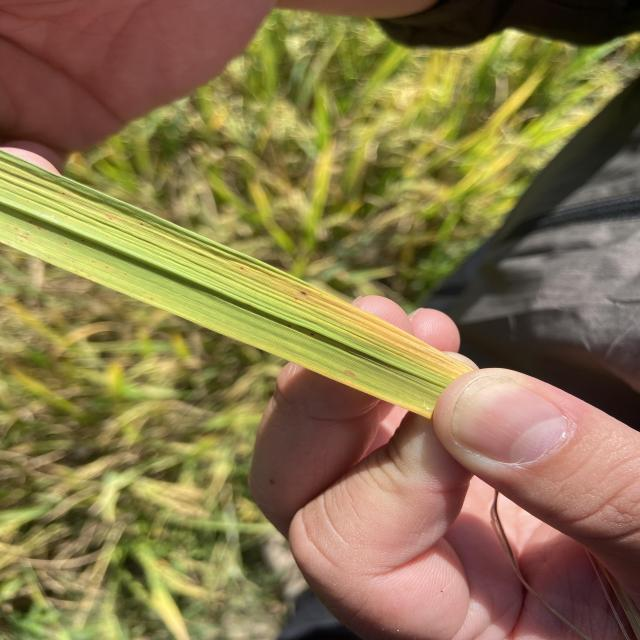Dom nau: (343, 370, 357, 376), (299, 291, 306, 295), (239, 267, 244, 269)
